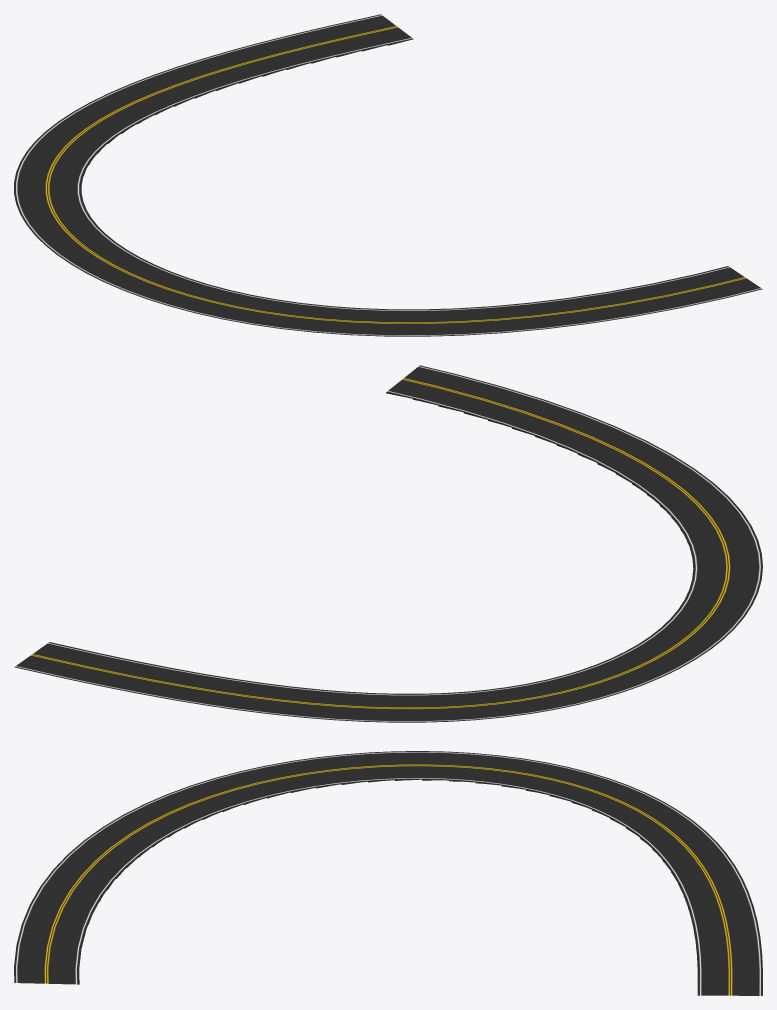
Rendered from LongCurvedRoad5.fbx.
3 renders of one model, top to bottom at view 1: azimuth 30°, elevation 25°; view 2: azimuth 150°, elevation 25°; view 3: azimuth 270°, elevation 25°, orthographic. The views are drawn at different scales.
Parts seen in each view (by area): view 1: Plane; view 2: Plane; view 3: Plane.
Part boxes in pixels (box(x1,y1,x2,y2)): Plane: box(14, 14, 762, 336); Plane: box(14, 365, 762, 722); Plane: box(14, 751, 762, 995).
Bounding box in the file's own units: 3829 × 79.4 × 5152.
Materials: 1 (1 with a texture image).
